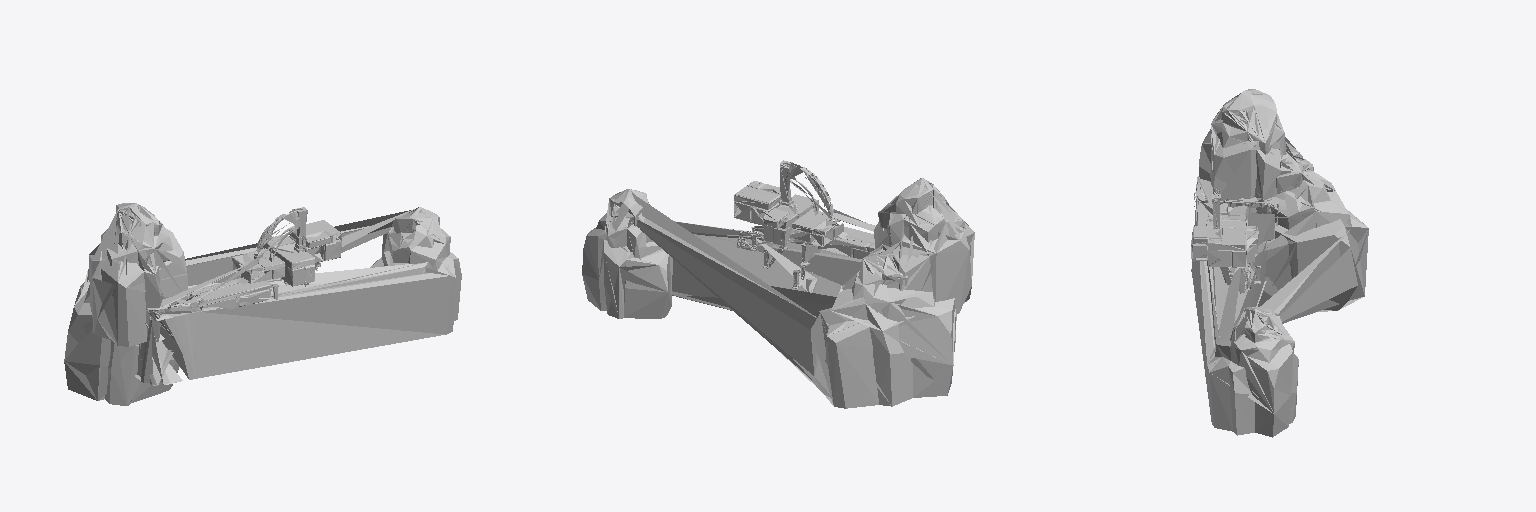
The model's file is cellRuins_SwitchGate_Proxy-sharedassets3.assets-652.obj.
The picture shows the model from 3 angles: view 1: azimuth 30°, elevation 25°; view 2: azimuth 150°, elevation 25°; view 3: azimuth 270°, elevation 25°; orthographic projection.
Visible parts, largest first — view 1: cellRuins_SwitchGate_Proxy_1, cellRuins_SwitchGate_Proxy_3, cellRuins_SwitchGate_Proxy_2, cellRuins_SwitchGate_Proxy_5, cellRuins_SwitchGate_Proxy_0, cellRuins_SwitchGate_Proxy_4; view 2: cellRuins_SwitchGate_Proxy_2, cellRuins_SwitchGate_Proxy_5, cellRuins_SwitchGate_Proxy_3, cellRuins_SwitchGate_Proxy_1, cellRuins_SwitchGate_Proxy_0, cellRuins_SwitchGate_Proxy_4; view 3: cellRuins_SwitchGate_Proxy_5, cellRuins_SwitchGate_Proxy_3, cellRuins_SwitchGate_Proxy_2, cellRuins_SwitchGate_Proxy_1, cellRuins_SwitchGate_Proxy_0, cellRuins_SwitchGate_Proxy_4.
Part boxes in pixels (x1,y1,x2,y2): cellRuins_SwitchGate_Proxy_1: (88,203,461,385); cellRuins_SwitchGate_Proxy_3: (90,203,461,382); cellRuins_SwitchGate_Proxy_2: (64,203,450,404); cellRuins_SwitchGate_Proxy_5: (64,205,461,405); cellRuins_SwitchGate_Proxy_0: (64,203,444,405); cellRuins_SwitchGate_Proxy_4: (89,203,186,346); cellRuins_SwitchGate_Proxy_2: (606,179,974,408); cellRuins_SwitchGate_Proxy_5: (582,181,971,408); cellRuins_SwitchGate_Proxy_3: (582,160,971,402); cellRuins_SwitchGate_Proxy_1: (661,162,948,318); cellRuins_SwitchGate_Proxy_0: (607,178,965,397); cellRuins_SwitchGate_Proxy_4: (869,186,974,301); cellRuins_SwitchGate_Proxy_5: (1199,89,1368,436); cellRuins_SwitchGate_Proxy_3: (1191,89,1368,437); cellRuins_SwitchGate_Proxy_2: (1211,89,1368,349); cellRuins_SwitchGate_Proxy_1: (1191,90,1312,421); cellRuins_SwitchGate_Proxy_0: (1210,89,1367,342); cellRuins_SwitchGate_Proxy_4: (1202,93,1299,213).
Bounding box in the file's own units: 266 × 133 × 109.